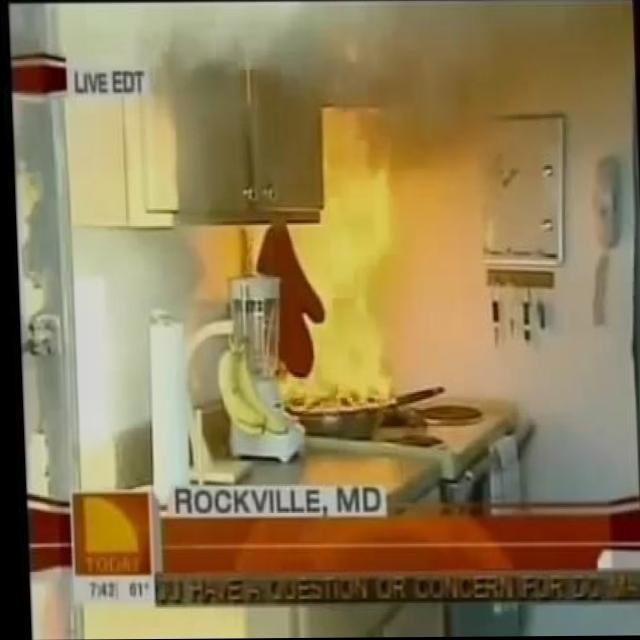fire: (283, 179, 399, 409)
